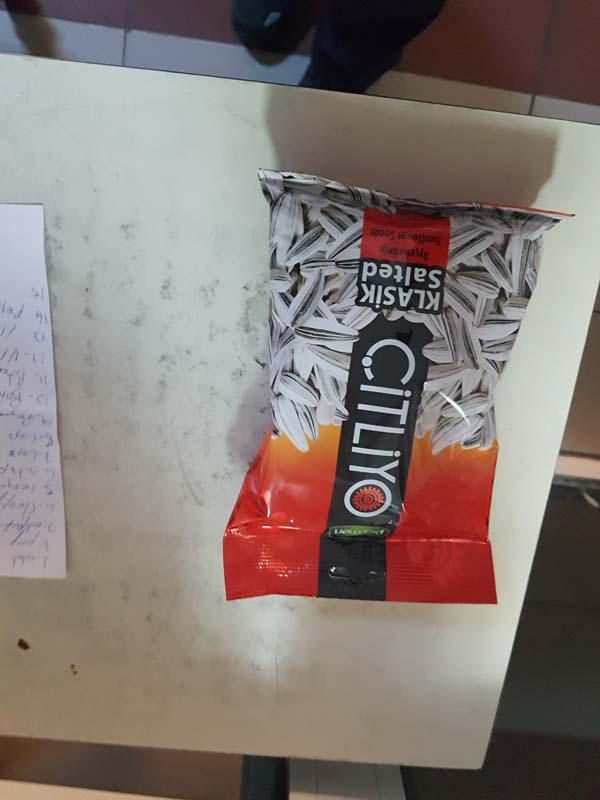citliyorklasik: (217, 157, 513, 619)
